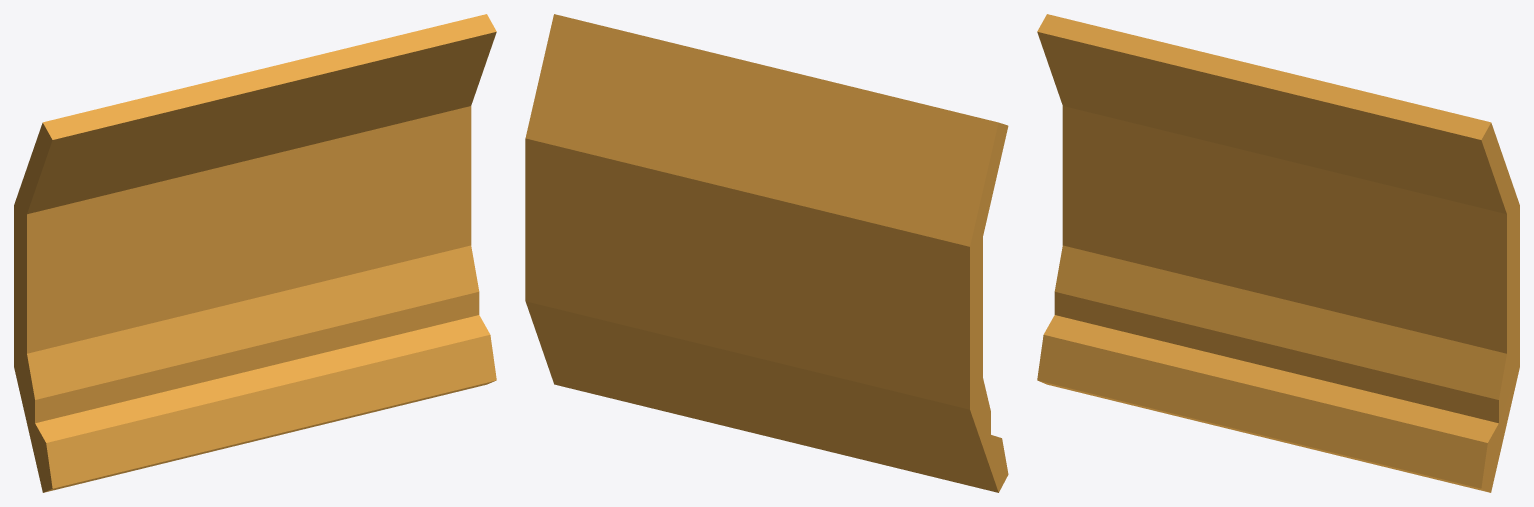
File: scifi-scifi-wall-corridor-stripe.glb
3 renders of one model, left to right at view 1: azimuth 30°, elevation 25°; view 2: azimuth 150°, elevation 25°; view 3: azimuth 330°, elevation 25°, orthographic.
Visible parts, largest first — view 1: scifi-wall-corridor-stripe; view 2: scifi-wall-corridor-stripe; view 3: scifi-wall-corridor-stripe.
Part boxes in pixels (x1,y1,x2,y2): scifi-wall-corridor-stripe: [14, 14, 496, 492]; scifi-wall-corridor-stripe: [525, 14, 1008, 492]; scifi-wall-corridor-stripe: [1037, 14, 1519, 492].
Size of the model in its own units: 4 by 3.19 by 0.6.
